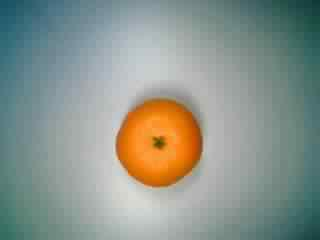orange: (107, 95, 206, 194)
